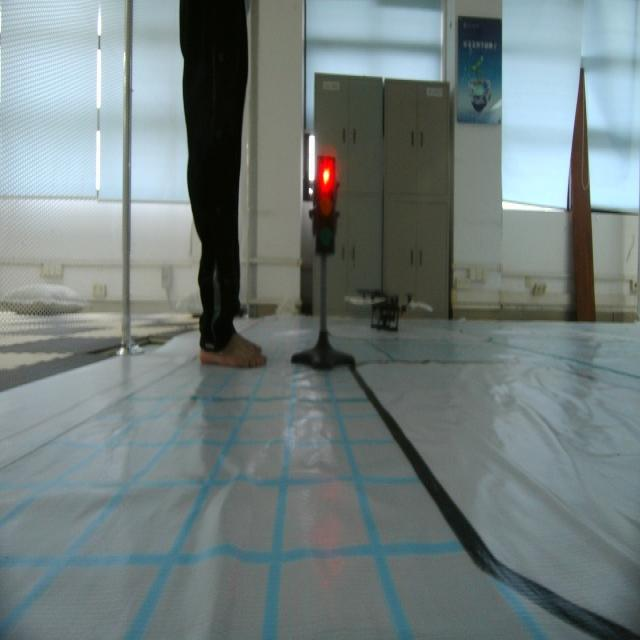red: (312, 152, 340, 261)
